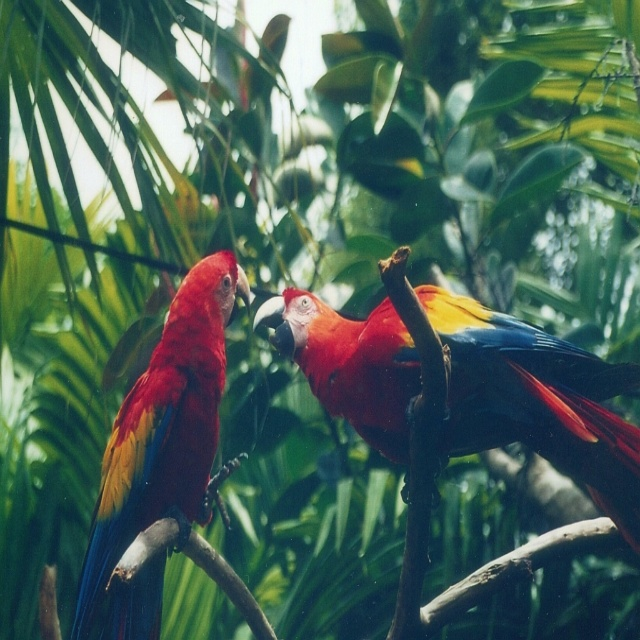Parrot: (272, 292, 639, 534), (71, 249, 256, 639)
